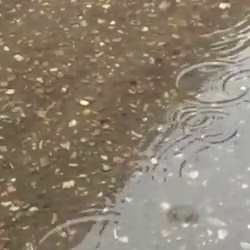drop: (33, 210, 121, 250), (177, 60, 247, 107), (183, 109, 238, 145), (169, 102, 208, 129), (223, 70, 250, 103), (166, 204, 199, 226)
